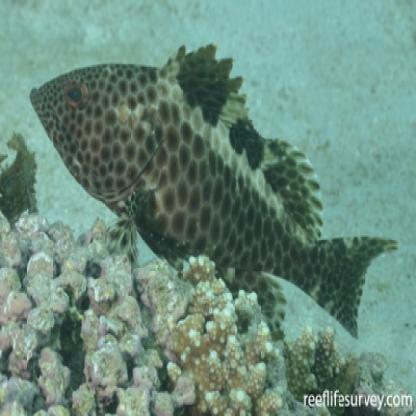Bio: (26, 36, 400, 343)
